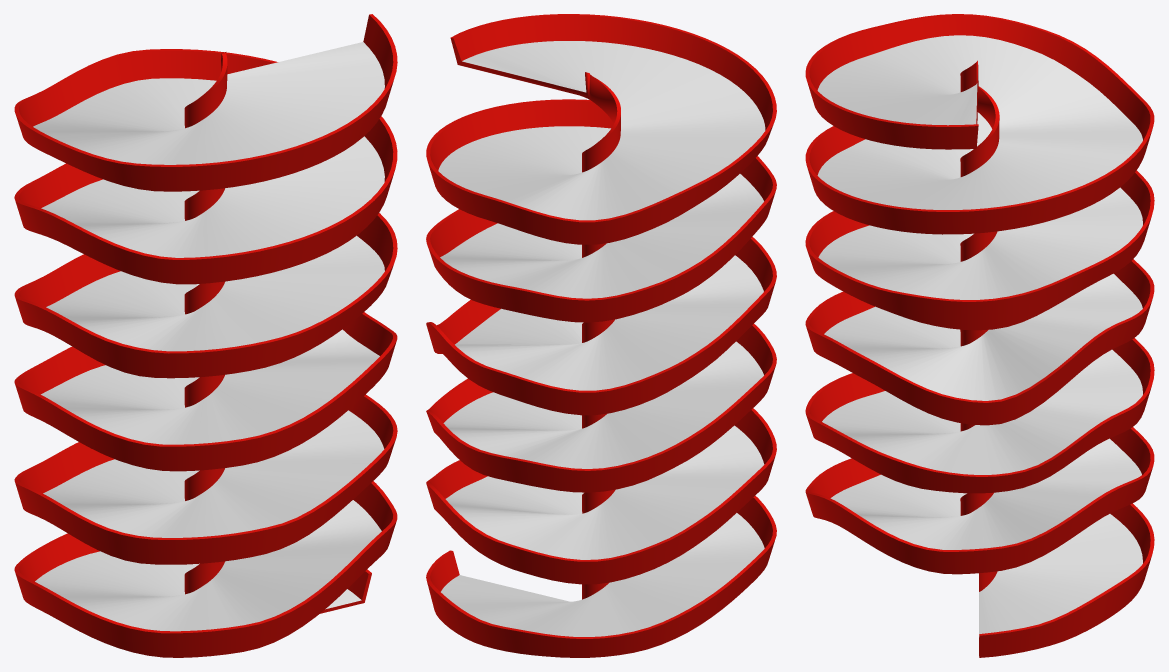
File: T_CzTwirl_Outline.fbx
The picture shows the model from 3 angles, left to right: view 1: azimuth 30°, elevation 25°; view 2: azimuth 150°, elevation 25°; view 3: azimuth 270°, elevation 25°; orthographic projection. The views are drawn at different scales.
Parts seen in each view (by area): view 1: T_CzTwirl_P_Outline; view 2: T_CzTwirl_P_Outline; view 3: T_CzTwirl_P_Outline.
Part boxes in pixels (x1,y1,x2,y2): T_CzTwirl_P_Outline: (14,14,397,657); T_CzTwirl_P_Outline: (426,14,776,657); T_CzTwirl_P_Outline: (805,14,1154,657).
Size of the model in its own units: 2219 by 3755 by 2219.
